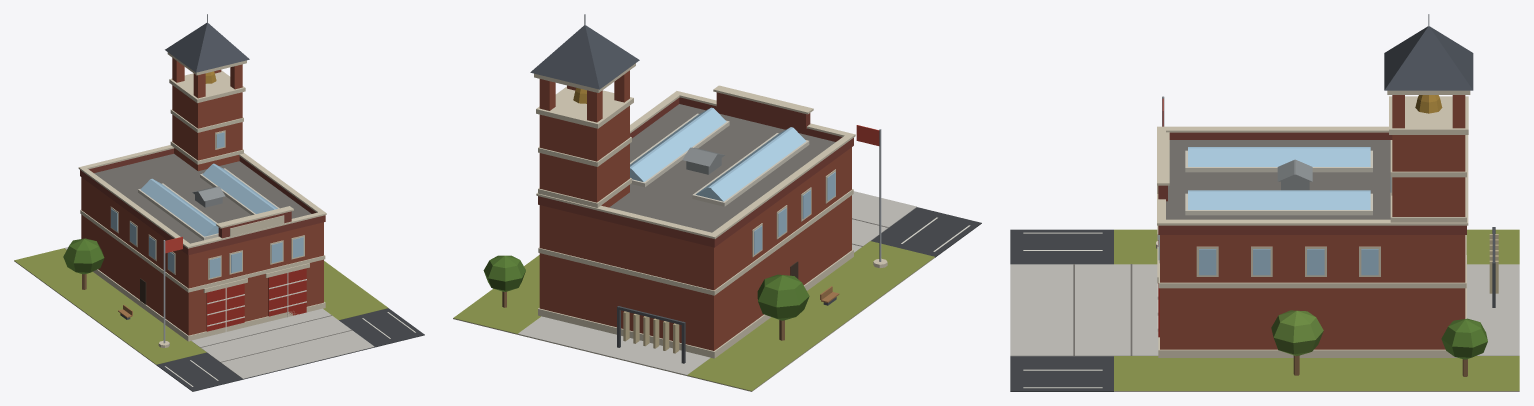
The model's file is firehall.glb.
3 views of the same model, side by side, from view 1: azimuth 30°, elevation 25°; view 2: azimuth 150°, elevation 25°; view 3: azimuth 270°, elevation 25° (orthographic). The views are drawn at different scales.
Parts seen in each view (by area): view 1: firehall; view 2: firehall; view 3: firehall.
Part boxes in pixels (bbox=[...]): firehall: bbox=[14, 14, 424, 391]; firehall: bbox=[453, 14, 981, 391]; firehall: bbox=[1010, 14, 1519, 391].
Size of the model in its own units: 24 by 22.8 by 32.
